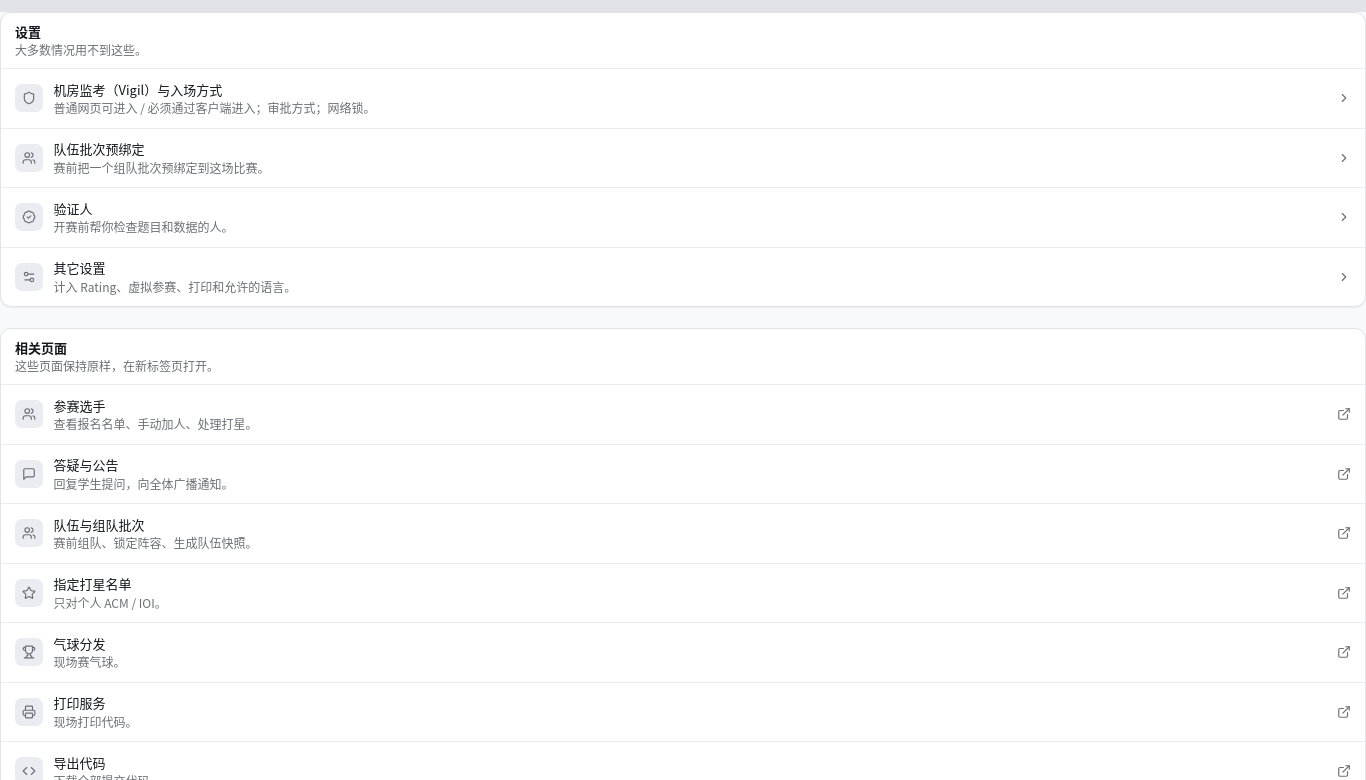
Test case: advanced tab › shows team-batch prebind for acm when canManageTeamBatches is true
The width and height of the screenshot is (1366, 780).
Expected: the heading "设置" is shown, [15, 22, 41, 41]
Click the heading "队伍批次预绑定 赛前把一个组队批次预绑定到这场比赛。": coordinates (99, 148) [1, 128, 1365, 187]
(page scrolled)
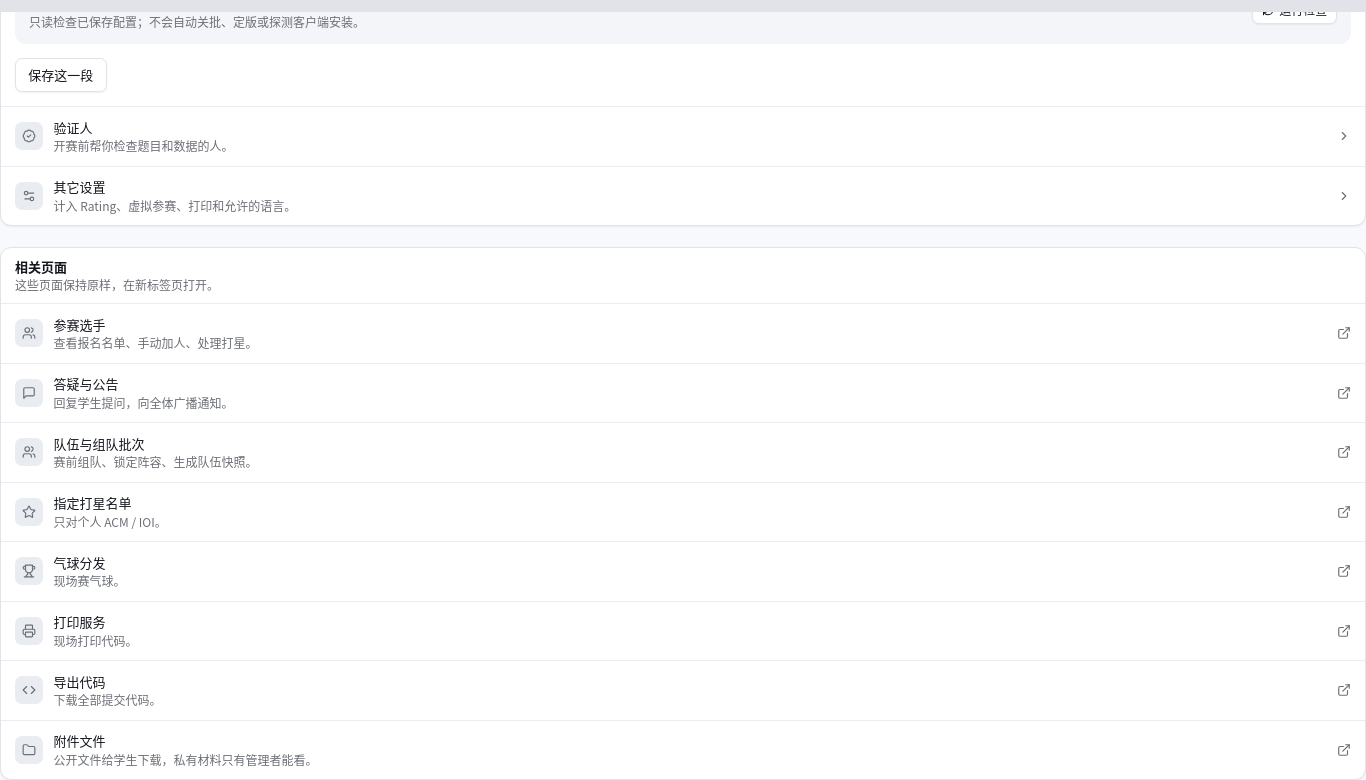
Expected: the text "这些页面保持原样，在新标签页打开。" is shown, [15, 276, 219, 293]
Expected: the element showing "附件文件 公开文件给学生下载，私有材料只有管理者能看。" is shown, [54, 731, 318, 768]
